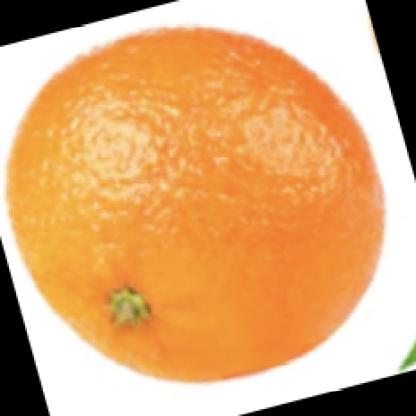orange: (8, 20, 388, 389)
